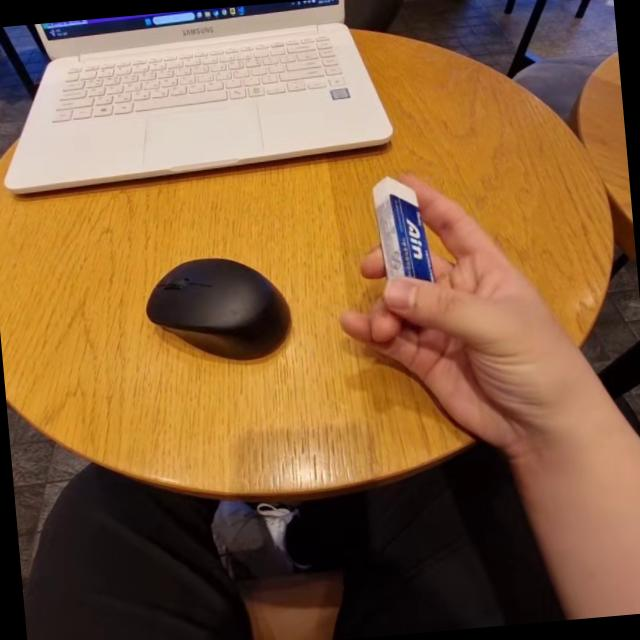eraser: (369, 172, 436, 304)
grab_eraser: (338, 161, 584, 452)
mouse: (139, 244, 298, 374)
